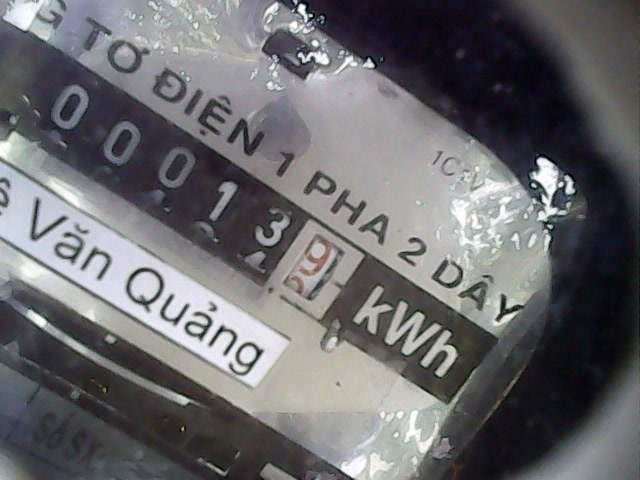phy_plate: (28, 38, 370, 333)
